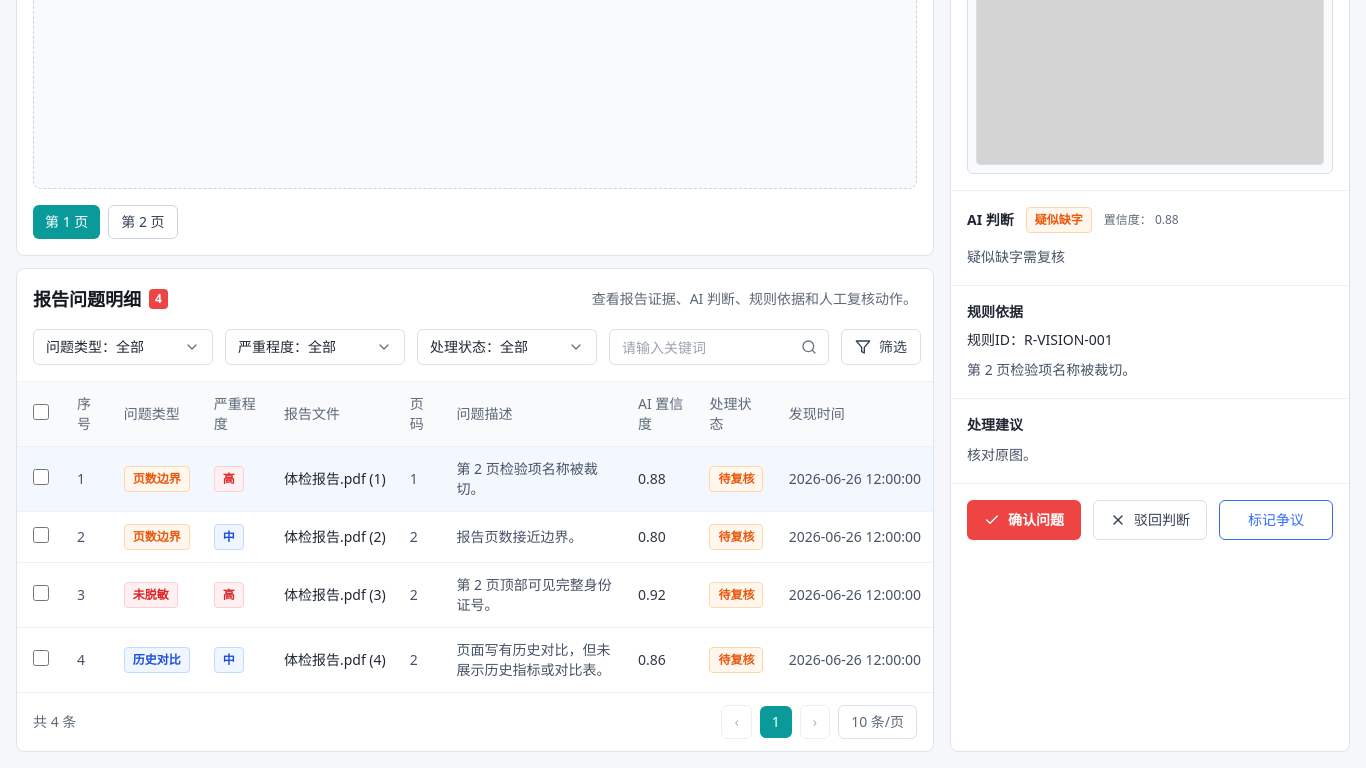
Scenario: quality workspace interactions › groups target quality findings and labels preview evidence by issue type
(page scrolled)
Check: the text "疑似缺字需复核" is shown, box left=967, top=247, right=1065, bottom=266
Step 1. Click the button "体检报告.pdf (2)" → (335, 537), box left=284, top=527, right=386, bottom=547
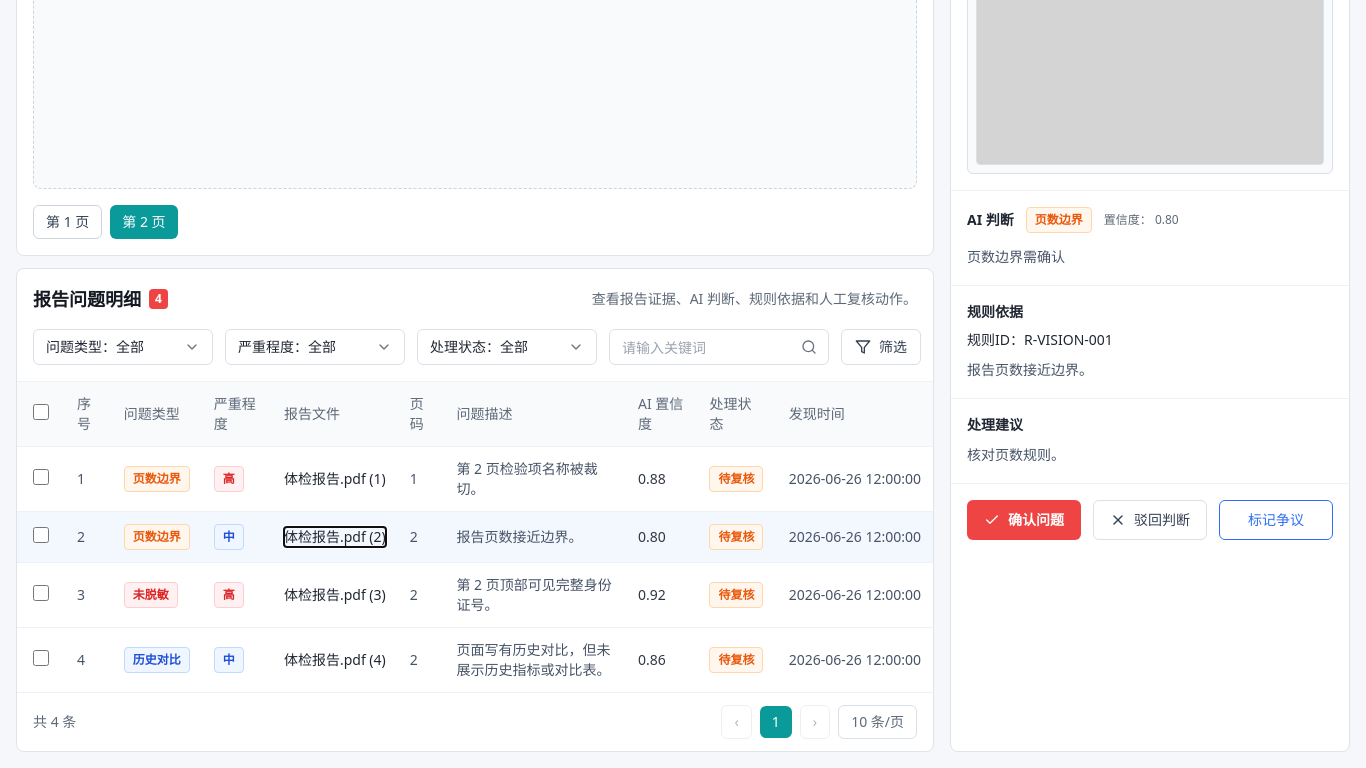
Check: the text "页数边界需确认" is shown, box left=967, top=247, right=1065, bottom=266
Step 2. Click the button "体检报告.pdf (3)" → (335, 595), box left=284, top=585, right=386, bottom=605
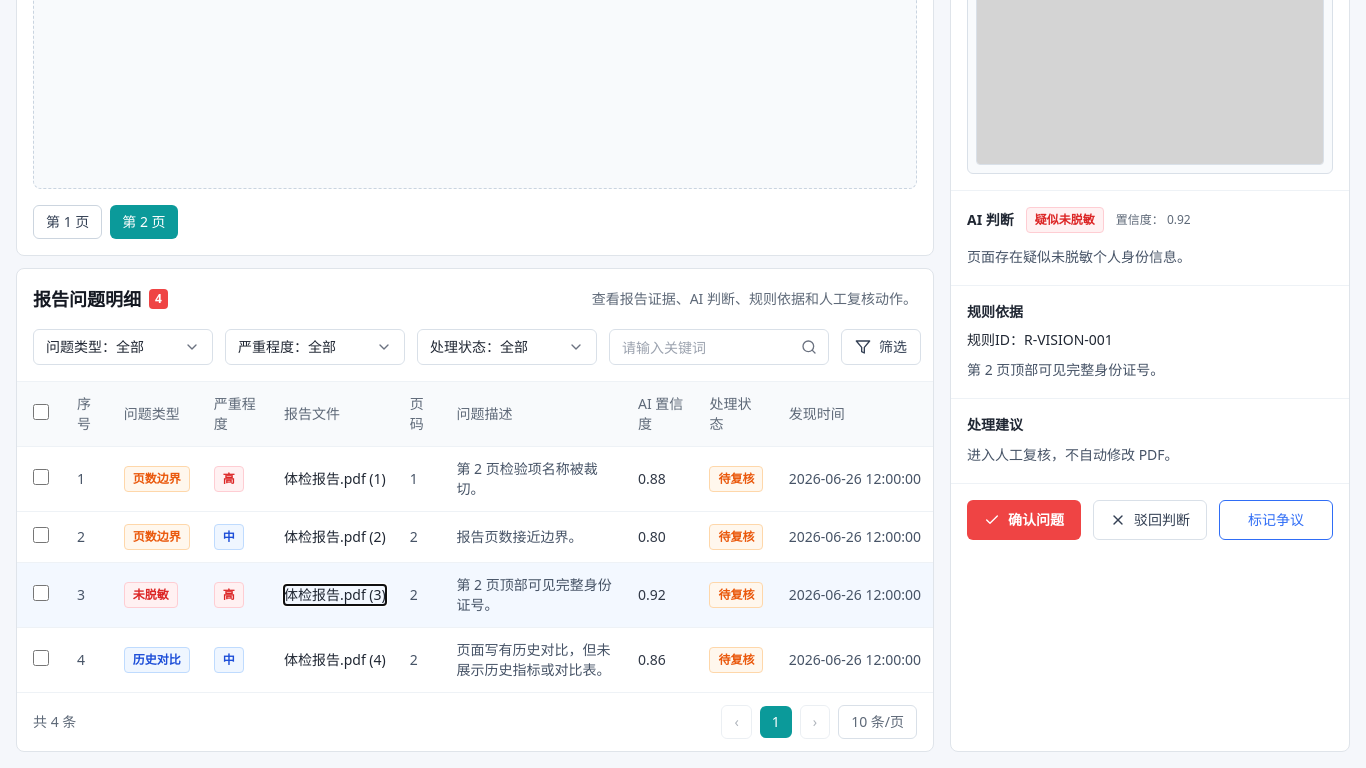
Check: the text "页面存在疑似未脱敏个人身份信息。" is shown, box left=967, top=247, right=1191, bottom=266
Step 3. Click the button "体检报告.pdf (4)" → (335, 660), box left=284, top=650, right=386, bottom=670
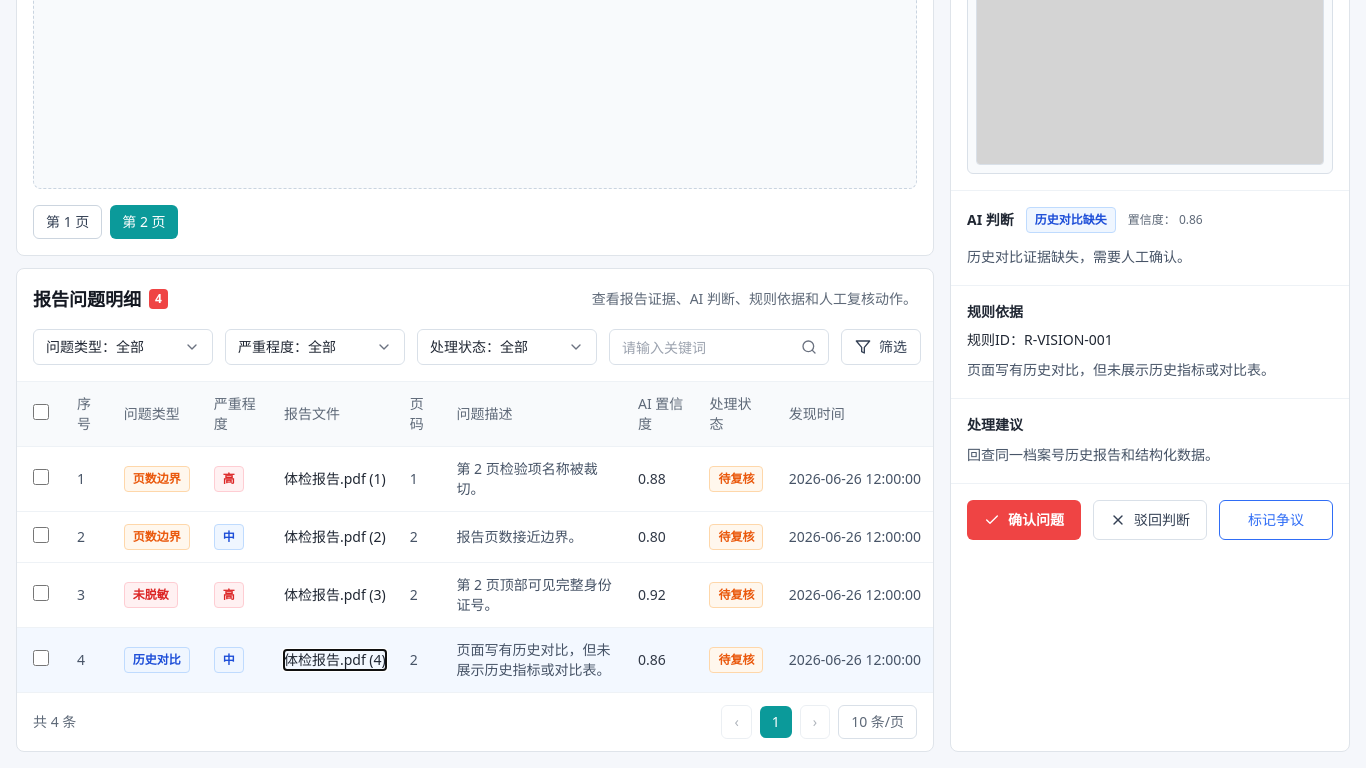
Check: the text "历史对比证据缺失，需要人工确认。" is shown, box left=967, top=247, right=1191, bottom=266
